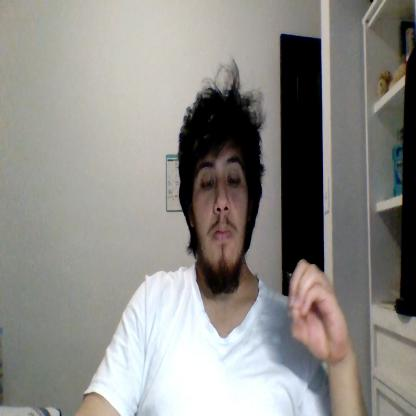O: (289, 258, 346, 362)
